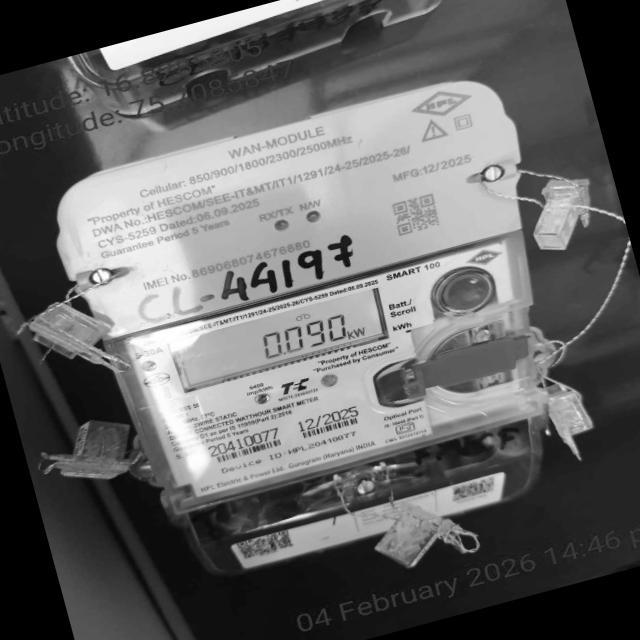meter: (46, 71, 576, 514)
